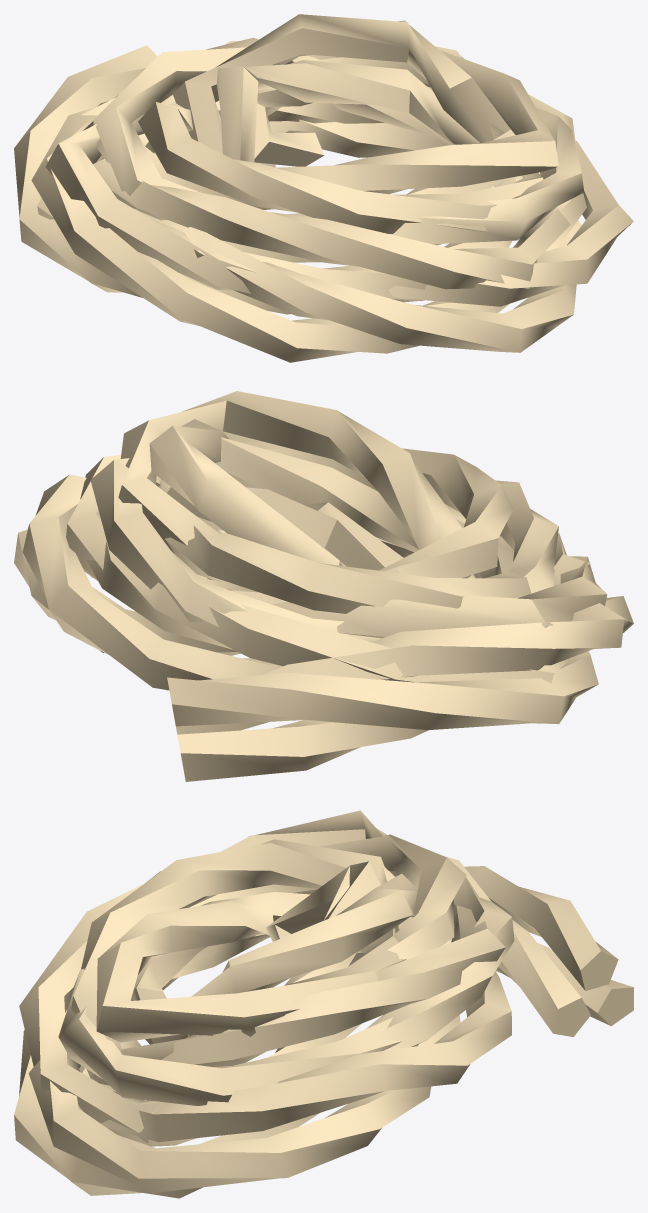
Rendered from Three_Side_Rope_RoundLaidout.fbx.
The picture shows the model from 3 angles, top to bottom: view 1: azimuth 30°, elevation 25°; view 2: azimuth 150°, elevation 25°; view 3: azimuth 270°, elevation 25°; orthographic projection. The views are drawn at different scales.
Parts seen in each view (by area): view 1: sweep9; view 2: sweep9; view 3: sweep9.
Part boxes in pixels (box(x1,y1,x2,y2)): sweep9: box(14, 14, 633, 362); sweep9: box(14, 391, 633, 781); sweep9: box(14, 810, 633, 1198).
Size of the model in its own units: 9.63 by 4.21 by 9.45.
1 material, 1 textured.
